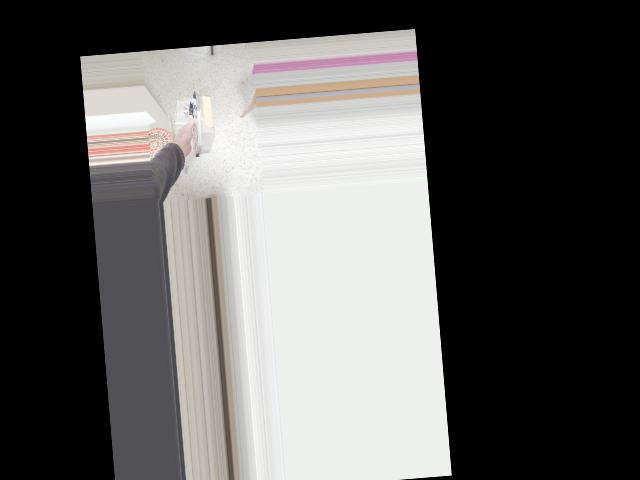cheese: (151, 90, 222, 164)
